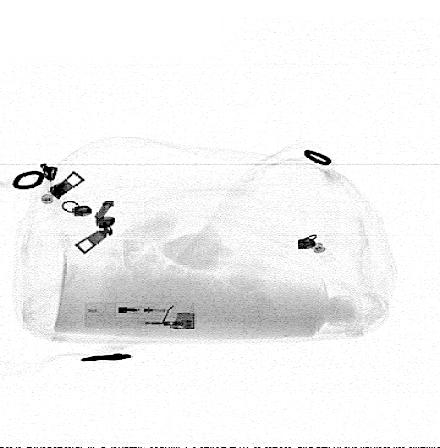Lighter: (85, 303, 196, 330)
